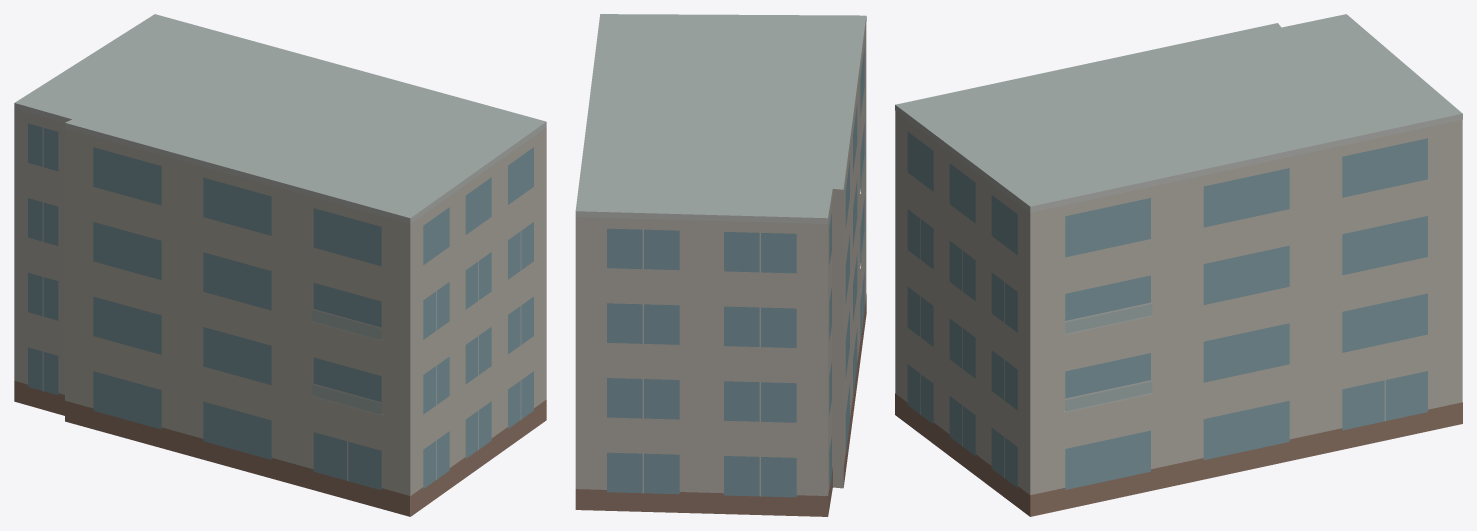
File: survey-upis-32741627.glb
3 renders of one model, left to right at view 1: azimuth 30°, elevation 25°; view 2: azimuth 150°, elevation 25°; view 3: azimuth 270°, elevation 25°, orthographic. The views are drawn at different scales.
Visible parts, largest first — view 1: survey-upis-32741627.tmp; view 2: survey-upis-32741627.tmp; view 3: survey-upis-32741627.tmp.
Part boxes in pixels (x1,y1,x2,y2): survey-upis-32741627.tmp: [14, 14, 546, 516]; survey-upis-32741627.tmp: [575, 14, 866, 516]; survey-upis-32741627.tmp: [895, 14, 1462, 516].
Size of the model in its own units: 16.79 by 12.6 by 20.9.
